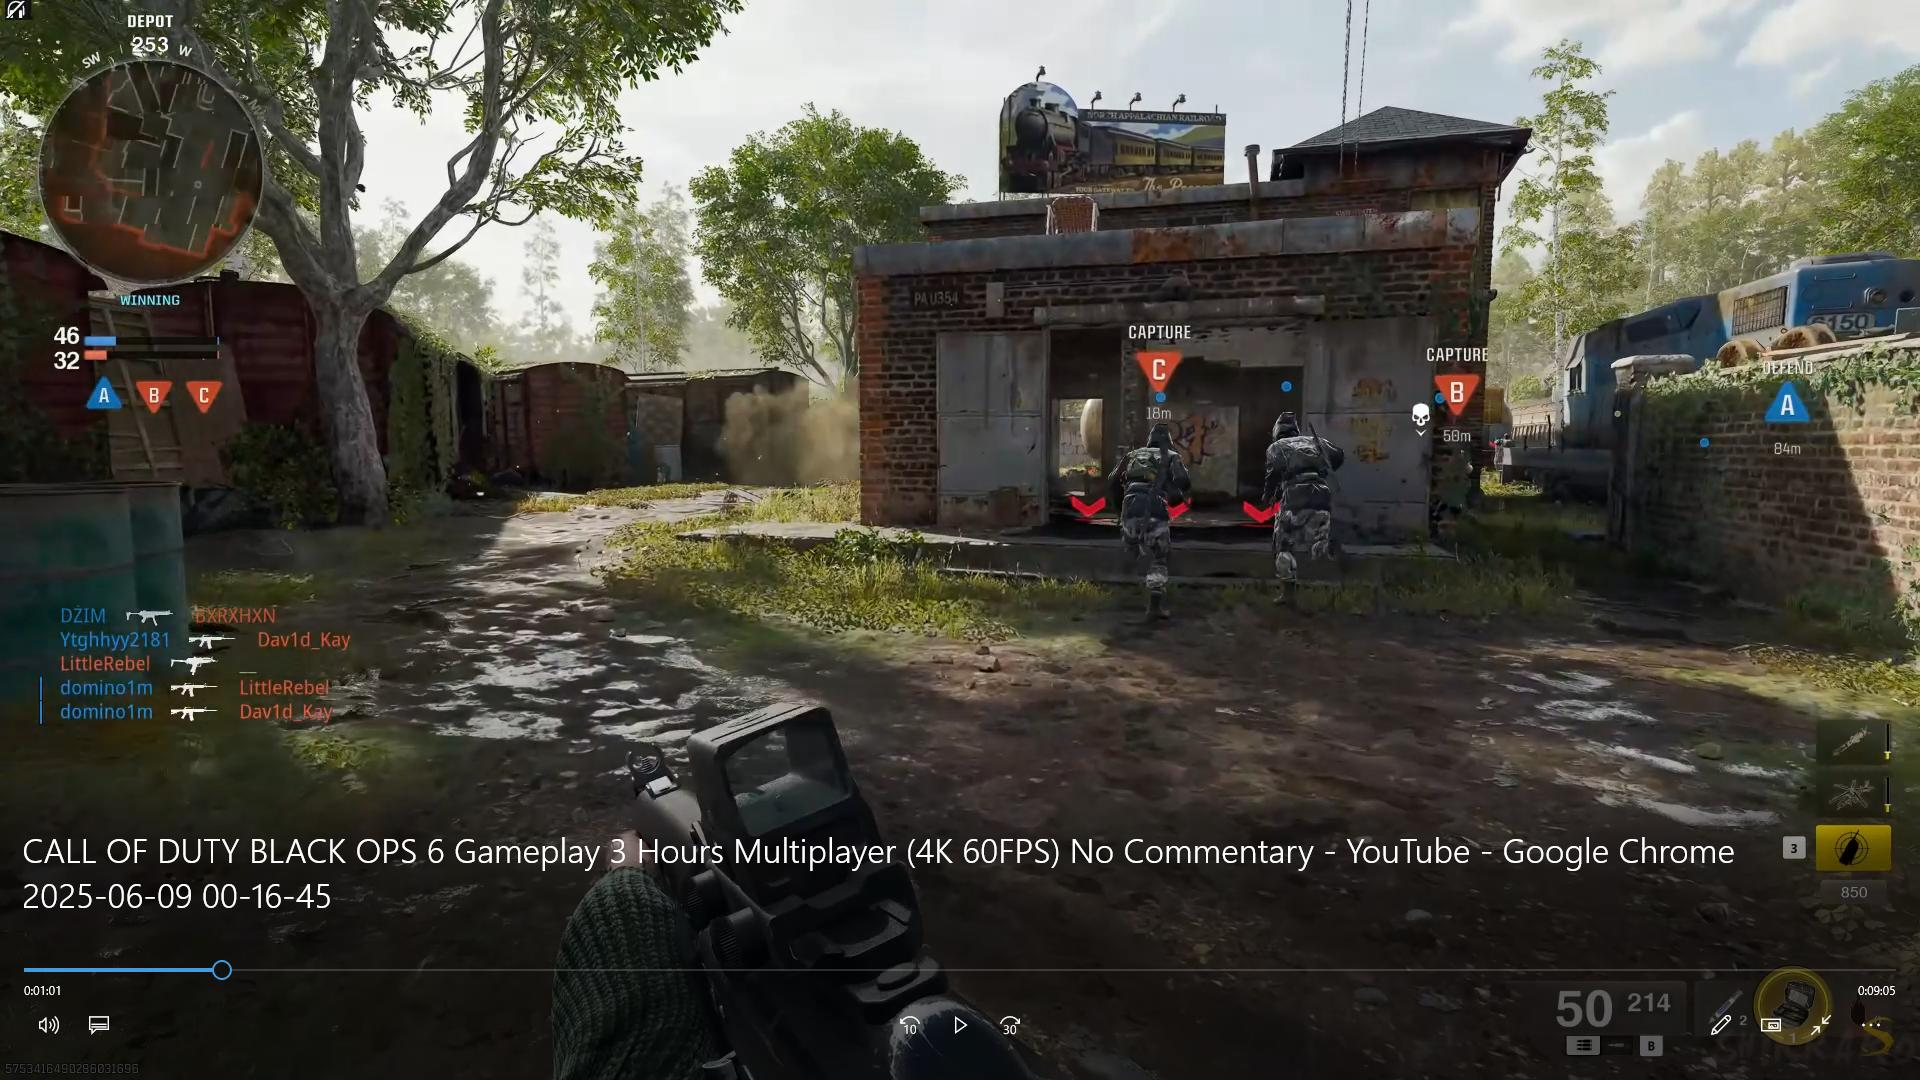Enemy: (1265, 415, 1348, 591), (1114, 419, 1180, 612)
